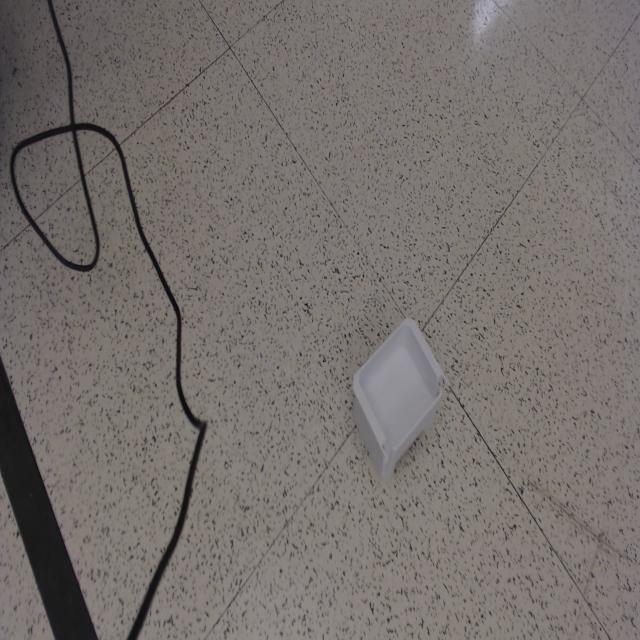wbox: (350, 314, 445, 483)
